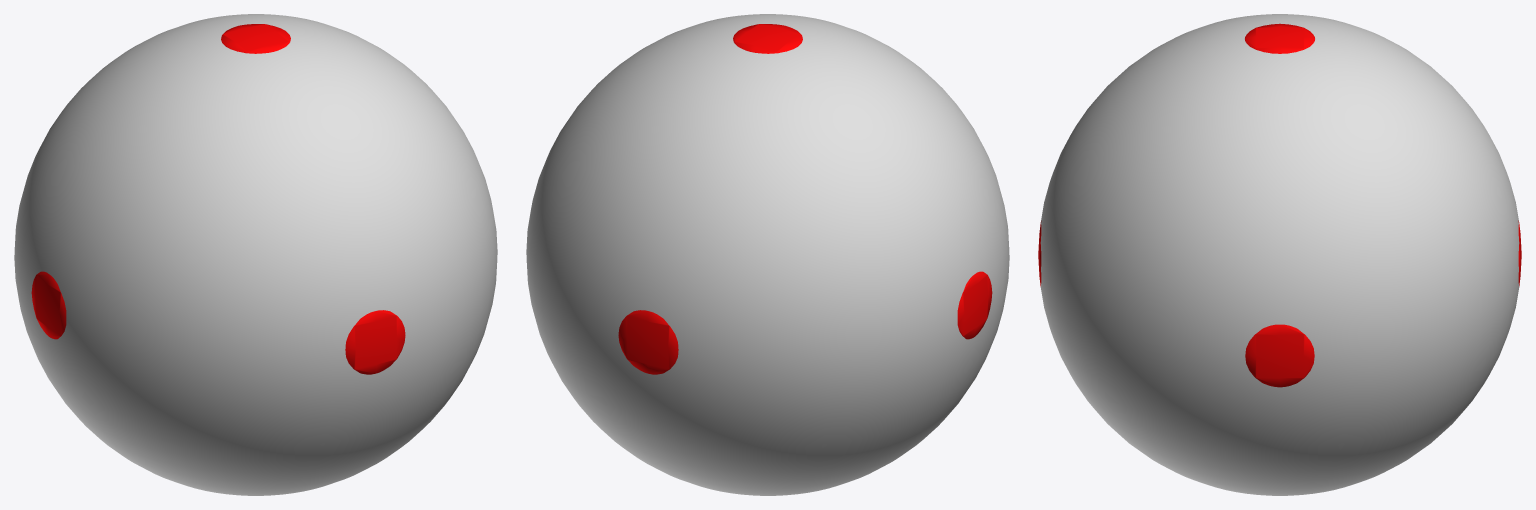
Rendered from CueBall.fbx.
3 renders of one model, left to right at view 1: azimuth 30°, elevation 25°; view 2: azimuth 150°, elevation 25°; view 3: azimuth 270°, elevation 25°, orthographic.
Parts seen in each view (by area): view 1: CueBall; view 2: CueBall; view 3: CueBall.
Part boxes in pixels (<box>): CueBall: <box>14,14,497,495</box>; CueBall: <box>526,14,1009,495</box>; CueBall: <box>1038,14,1521,495</box>.
Bounding box in the file's own units: 5.7 × 5.7 × 5.7.
